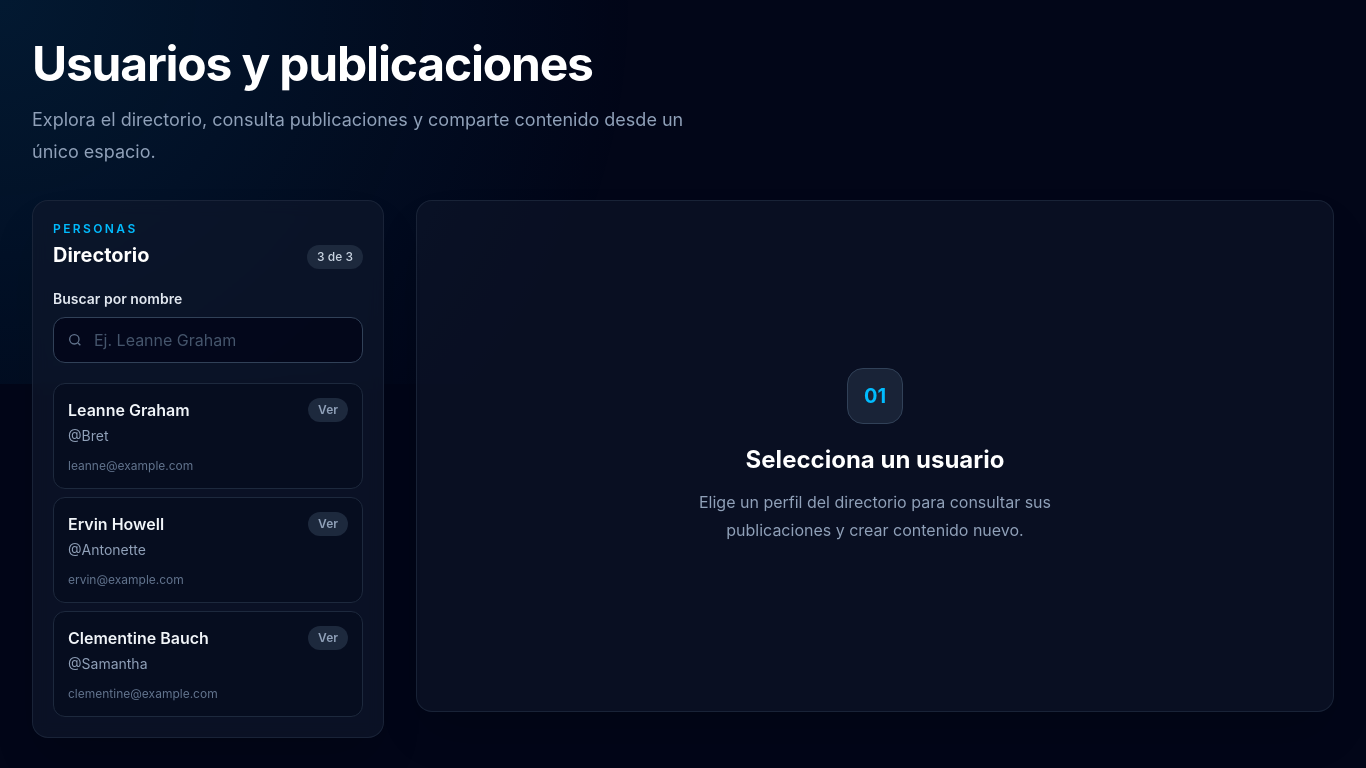
Test case: interacciones de usuarios y publicaciones › impide enviar campos vacíos y muestra los mensajes de validación
Click the button "Leanne Graham @Bret Ver": [129, 410] box [68,398,348,446]
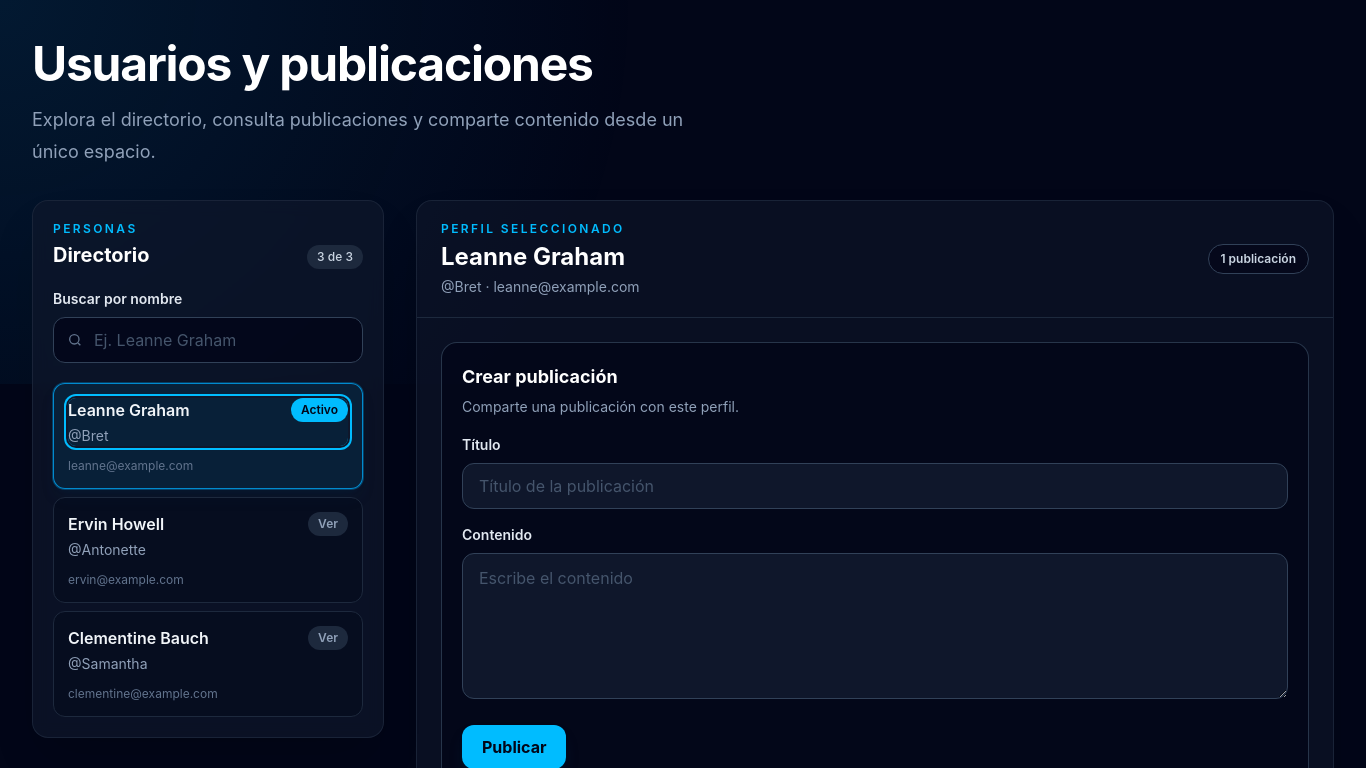
Click the button "Publicar": [514, 747] box [462,725,566,767]
(page scrolled)
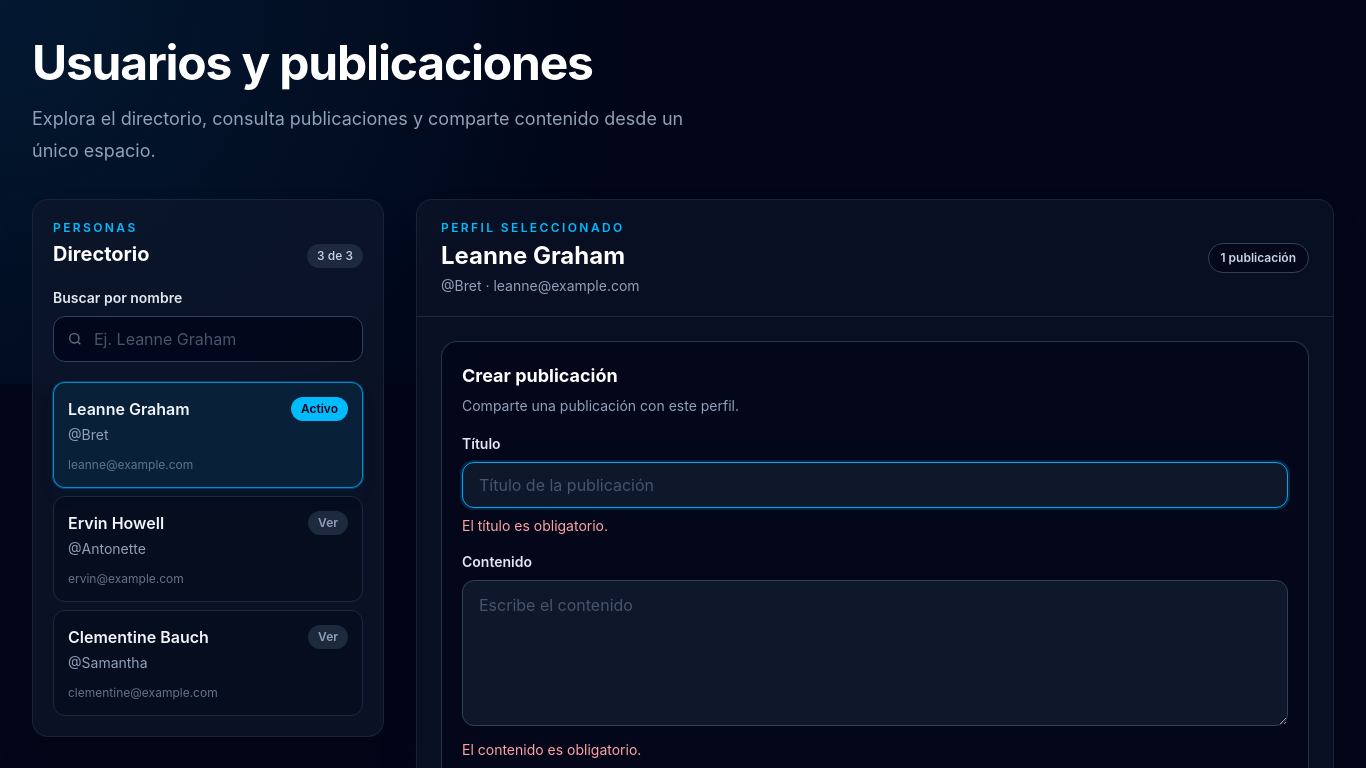
Now the text "El título es obligatorio." is shown, box [462,517,608,534]
Now the text "El contenido es obligatorio." is shown, box [462,741,641,758]
